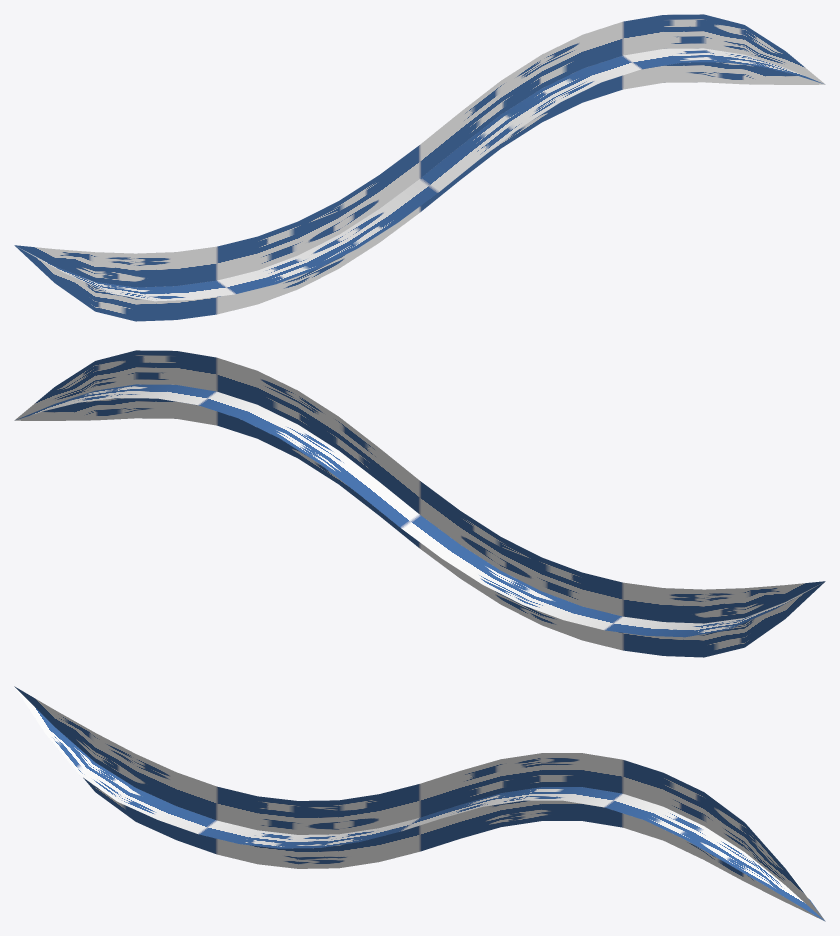
File: Rui_Line3.fbx
3 views of the same model, one above another, from view 1: azimuth 30°, elevation 25°; view 2: azimuth 150°, elevation 25°; view 3: azimuth 330°, elevation 25° (orthographic).
Visible parts, largest first — view 1: SM_e_Plc_P1007_Line003; view 2: SM_e_Plc_P1007_Line003; view 3: SM_e_Plc_P1007_Line003.
Boxes of the visible parts, <box> form: SM_e_Plc_P1007_Line003: <box>14,14,825,321</box>; SM_e_Plc_P1007_Line003: <box>14,350,825,657</box>; SM_e_Plc_P1007_Line003: <box>14,686,825,921</box>.
Bounding box in the file's own units: 100 × 22.82 × 8.
